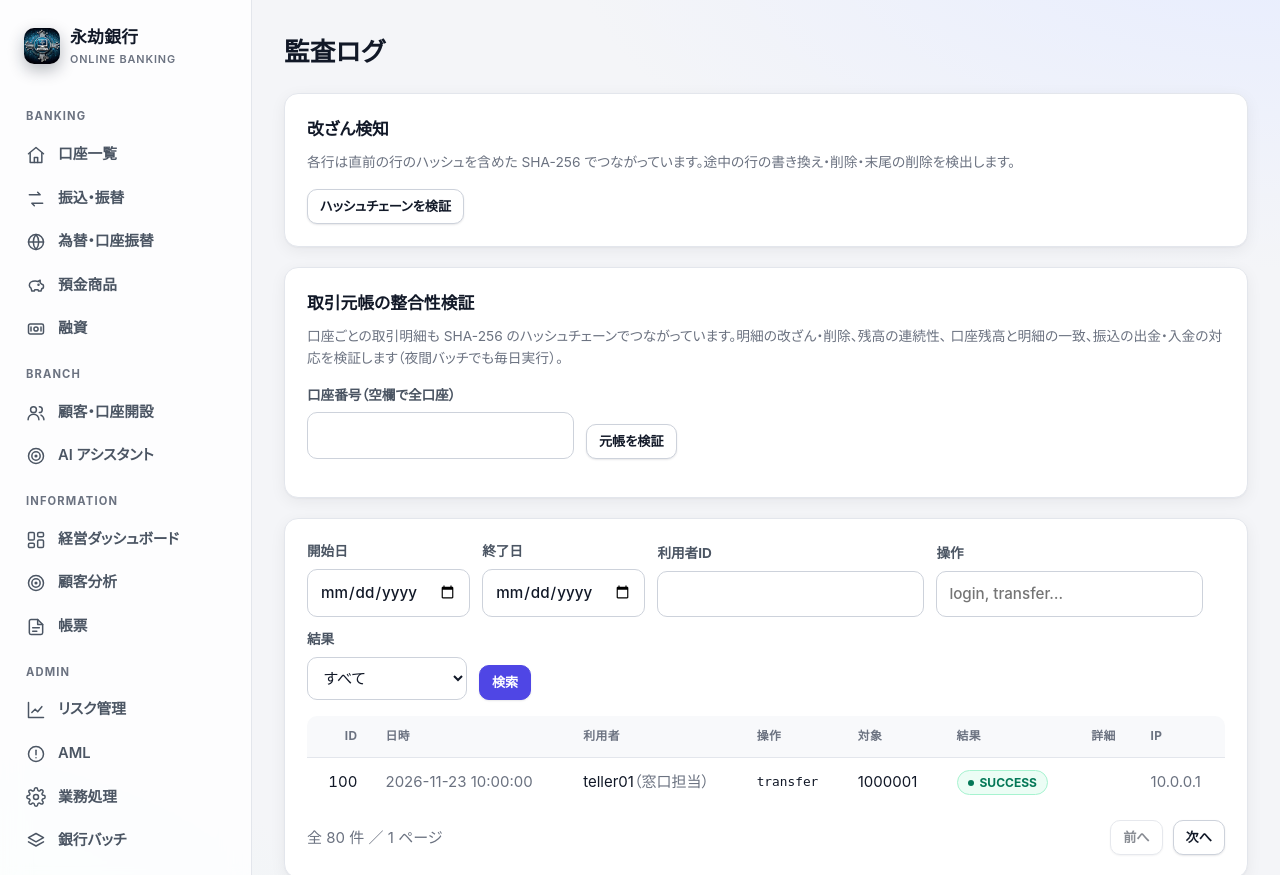
Test case: AuditPage › ハッシュチェーン検証：正常と改ざん検知を表示する
Step 1. Click the button "ハッシュチェーンを検証" → (386, 206), box [307,189,464,224]
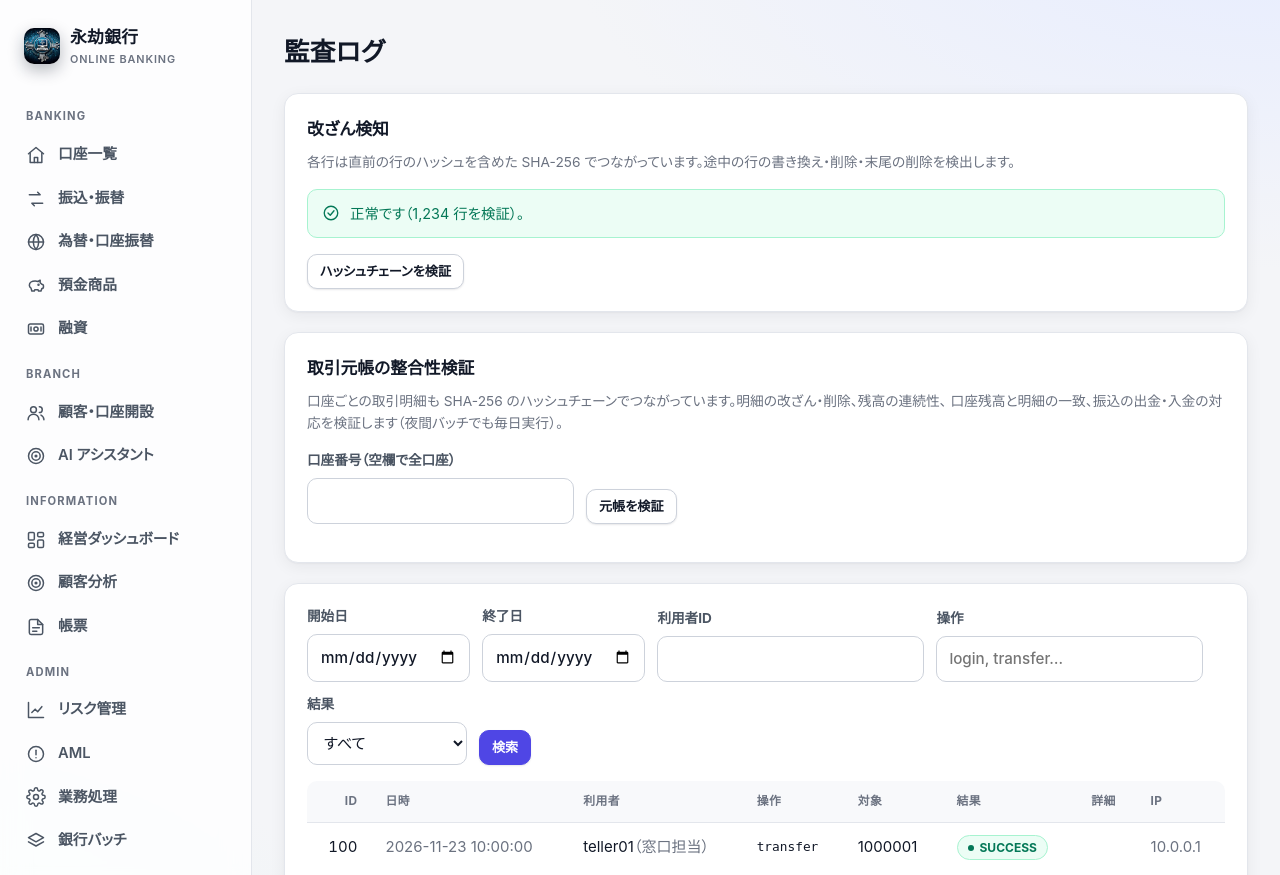
Now the text "正常です（1,234 行を検証）。" is shown, box [350,202,524,225]
Step 2. Click the button "ハッシュチェーンを検証" → (386, 271), box [307,254,464,289]
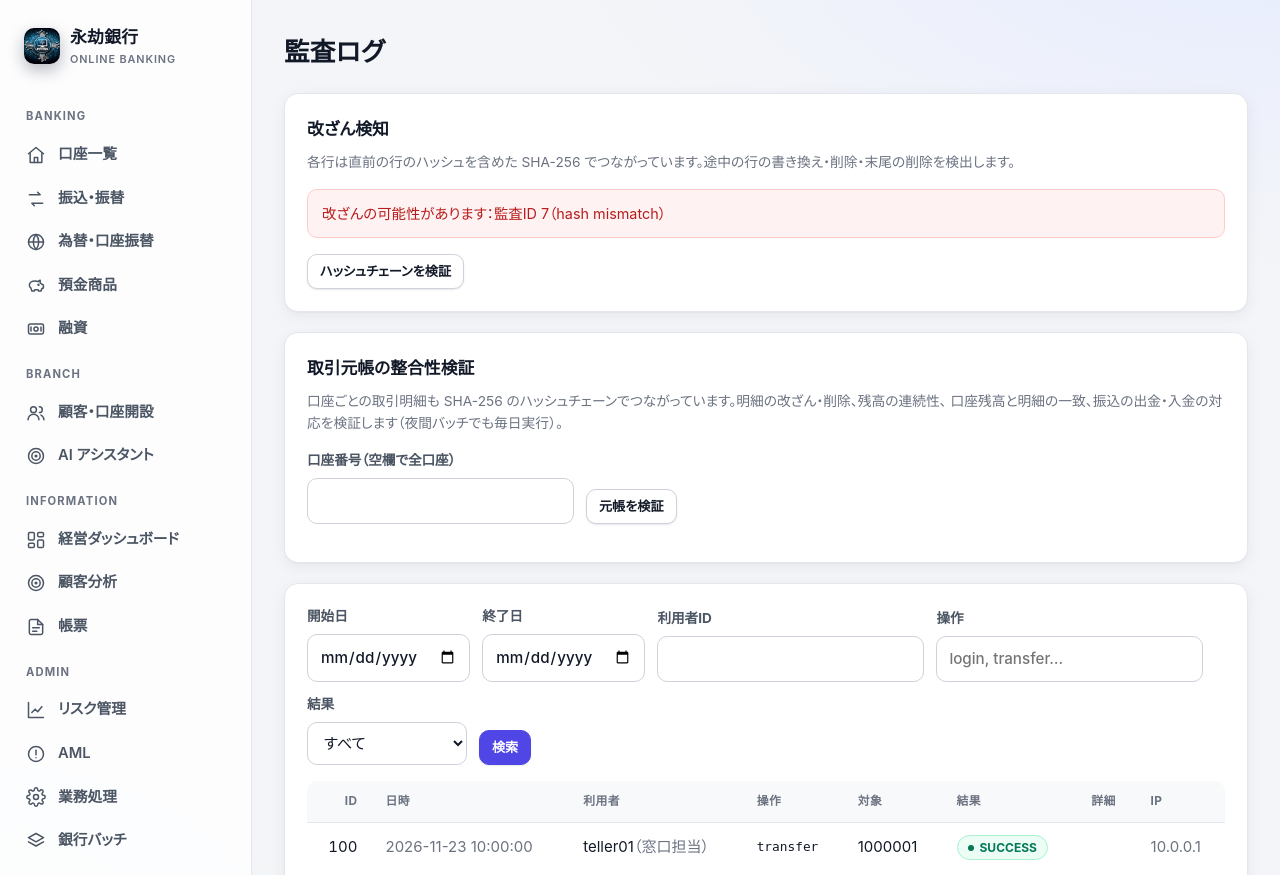
Now the text "改ざんの可能性があります：監査ID 7（hash mismatch）" is shown, box [307,189,1225,238]
